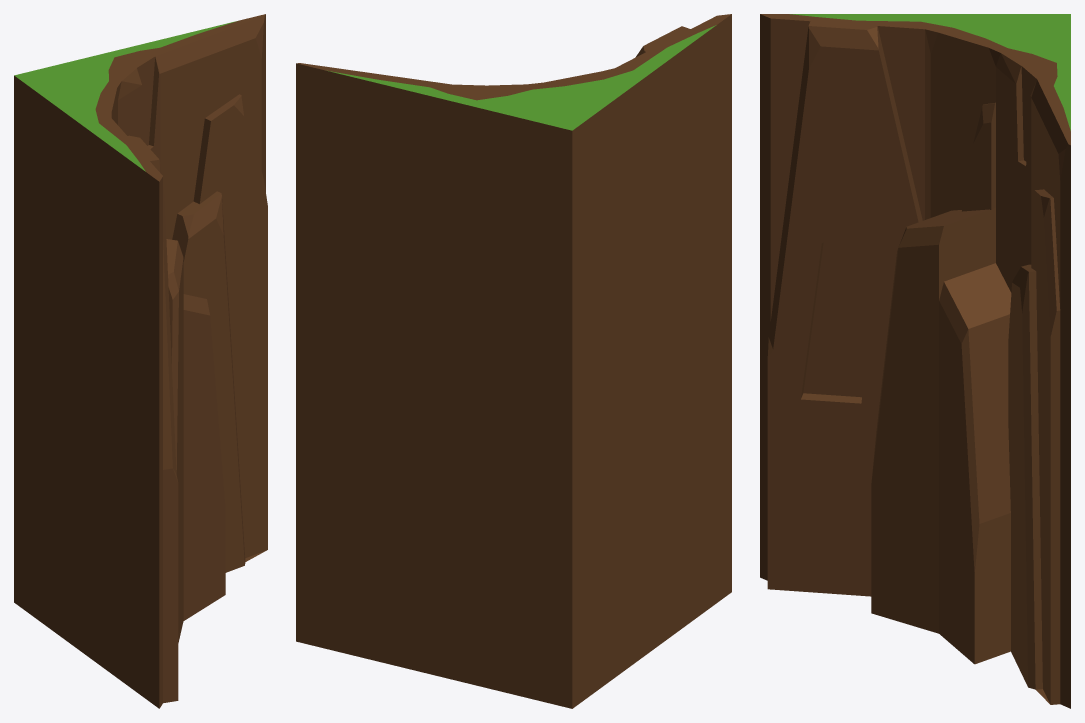
Rendered from Cliff x2 5.fbx.
3 renders of one model, left to right at view 1: azimuth 30°, elevation 25°; view 2: azimuth 150°, elevation 25°; view 3: azimuth 270°, elevation 25°, orthographic. The views are drawn at different scales.
Parts seen in each view (by area): view 1: Cliff x2 5; view 2: Cliff x2 5; view 3: Cliff x2 5.
Part boxes in pixels (x1,y1,x2,y2): Cliff x2 5: (14, 14, 267, 708); Cliff x2 5: (296, 14, 731, 708); Cliff x2 5: (760, 14, 1070, 708).
Bounding box in the file's own units: 200 × 400 × 200.
